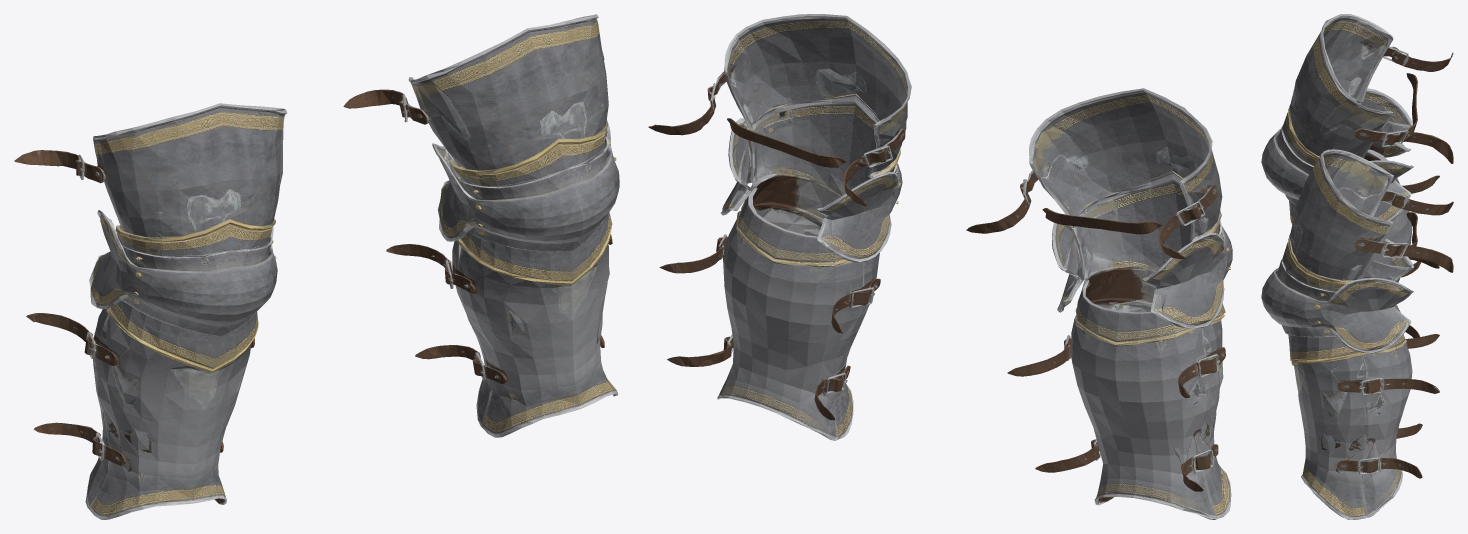
Rendered from ewm_greaves.glb.
3 renders of one model, left to right at view 1: azimuth 30°, elevation 25°; view 2: azimuth 150°, elevation 25°; view 3: azimuth 270°, elevation 25°, orthographic. The views are drawn at different scales.
Parts seen in each view (by area): view 1: ewm_greaves; view 2: ewm_greaves; view 3: ewm_greaves.
Boxes of the visible parts, x1,y1,x2,y2 form: ewm_greaves: [14, 14, 619, 519]; ewm_greaves: [648, 14, 1232, 519]; ewm_greaves: [1261, 14, 1453, 519].
Bounding box in the file's own units: 0.598 × 0.428 × 0.2213.
Materials: 1 (1 with a texture image).
